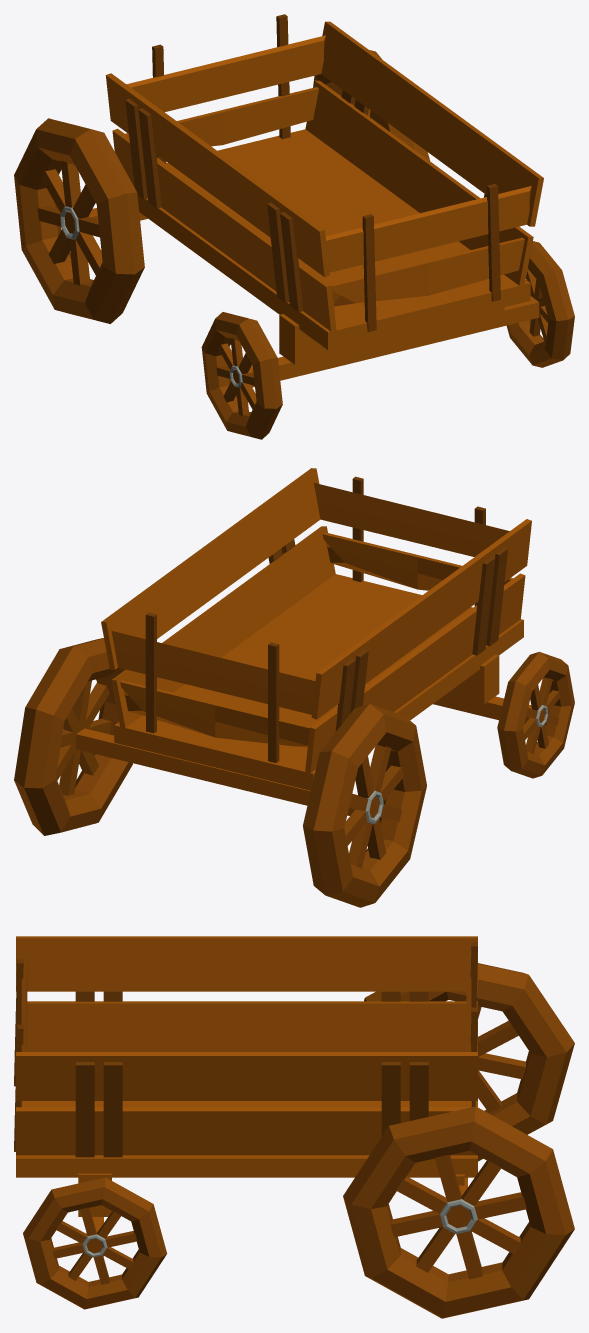
The model's file is Cart.fbx.
3 renders of one model, top to bottom at view 1: azimuth 30°, elevation 25°; view 2: azimuth 150°, elevation 25°; view 3: azimuth 270°, elevation 25°, orthographic. The views are drawn at different scales.
Parts seen in each view (by area): view 1: PODLOGA, DESKA5, kolo 1.002, DESKI, kolo 2, DESKA.001, DESKA4, Cube.001, DESKA, WSPORNIK3, kolo 1, DESKA3 (+3 smaller); view 2: PODLOGA, DESKA5, kolo 1.002, DESKI, kolo 1.001, kolo 2, DESKA4, DESKA.001, DESKA3, DESKA, WSPORNIK3, WSPORNIK2 (+2 smaller); view 3: DESKI, DESKA5, kolo 1.001, kolo 1, PODLOGA, kolo 1.002, WSPORNIK4, WSPORNIK1, WSPORNIK3, WSPORNIK2, Cube.001, srodek1.001 (+2 smaller).
Part boxes in pixels (x1,y1,x2,y2): PODLOGA: [88, 129, 530, 350]; DESKA5: [305, 21, 543, 285]; kolo 1.002: [14, 118, 144, 323]; DESKI: [105, 73, 336, 331]; kolo 2: [201, 312, 282, 439]; DESKA.001: [325, 186, 531, 272]; DESKA4: [127, 35, 325, 112]; Cube.001: [248, 296, 539, 387]; DESKA: [331, 237, 524, 306]; WSPORNIK3: [125, 98, 303, 312]; kolo 1: [506, 241, 574, 367]; DESKA3: [125, 87, 318, 146]; PODLOGA: [76, 574, 523, 815]; DESKA5: [101, 468, 335, 727]; kolo 1.002: [303, 703, 426, 907]; DESKI: [305, 519, 531, 772]; kolo 1.001: [14, 638, 132, 835]; kolo 2: [497, 651, 574, 778]; DESKA4: [111, 631, 315, 714]; DESKA.001: [314, 483, 509, 556]; DESKA3: [120, 680, 310, 746]; DESKA: [322, 532, 512, 590]; WSPORNIK3: [335, 547, 507, 731]; WSPORNIK2: [145, 612, 279, 762]; DESKI: [16, 936, 477, 1051]; DESKA5: [16, 1052, 477, 1155]; kolo 1.001: [343, 1106, 574, 1318]; kolo 1: [23, 1177, 167, 1309]; PODLOGA: [16, 1101, 477, 1195]; kolo 1.002: [364, 963, 574, 1161]; WSPORNIK4: [75, 1062, 428, 1157]; WSPORNIK1: [14, 959, 23, 1151]; WSPORNIK3: [75, 991, 428, 1001]; WSPORNIK2: [470, 942, 477, 1106]; Cube.001: [78, 1173, 111, 1256]; srodek1.001: [439, 1199, 477, 1233].
Size of the model in its own units: 287 by 203 by 388.
